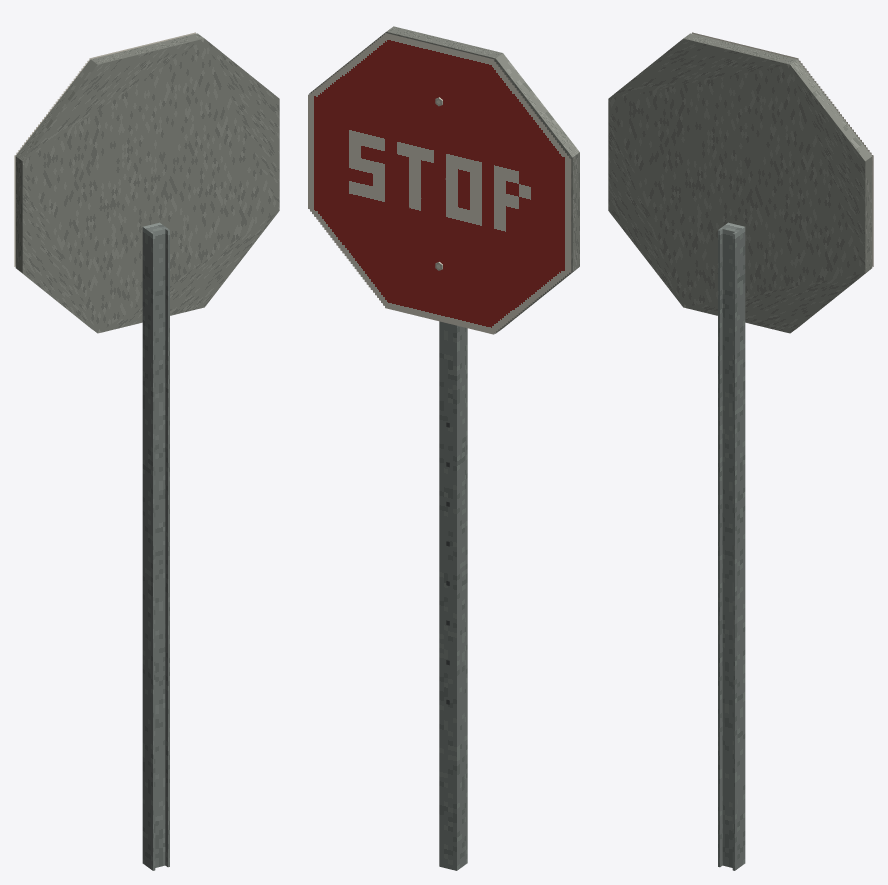
File: f_sign_stop.glb
3 views of the same model, side by side, from view 1: azimuth 30°, elevation 25°; view 2: azimuth 150°, elevation 25°; view 3: azimuth 330°, elevation 25° (orthographic). The views are drawn at different scales.
Parts seen in each view (by area): view 1: block_octagonal sign blank, block_galvanized U-channel, block_flange -0.03, block_flange 0.022, block_reflective STOP face; view 2: block_reflective STOP face, block_galvanized U-channel, block_octagonal sign blank, block_flange -0.03; view 3: block_octagonal sign blank, block_galvanized U-channel, block_flange 0.022, block_flange -0.03, block_reflective STOP face.
Boxes of the visible parts, x1,y1,x2,y2 form: block_octagonal sign blank: [15, 33, 279, 333]; block_galvanized U-channel: [142, 222, 167, 868]; block_flange -0.03: [149, 232, 155, 870]; block_flange 0.022: [164, 228, 169, 867]; block_reflective STOP face: [14, 32, 195, 266]; block_reflective STOP face: [308, 33, 571, 334]; block_galvanized U-channel: [439, 321, 464, 870]; block_octagonal sign blank: [309, 26, 579, 333]; block_flange -0.03: [463, 327, 467, 864]; block_octagonal sign blank: [608, 33, 872, 333]; block_galvanized U-channel: [720, 222, 745, 868]; block_flange 0.022: [732, 232, 737, 870]; block_flange -0.03: [718, 228, 722, 867]; block_reflective STOP face: [692, 32, 873, 266].
Size of the model in its own units: 0.904 by 2.72 by 0.1205.
2 materials, 2 textured.
